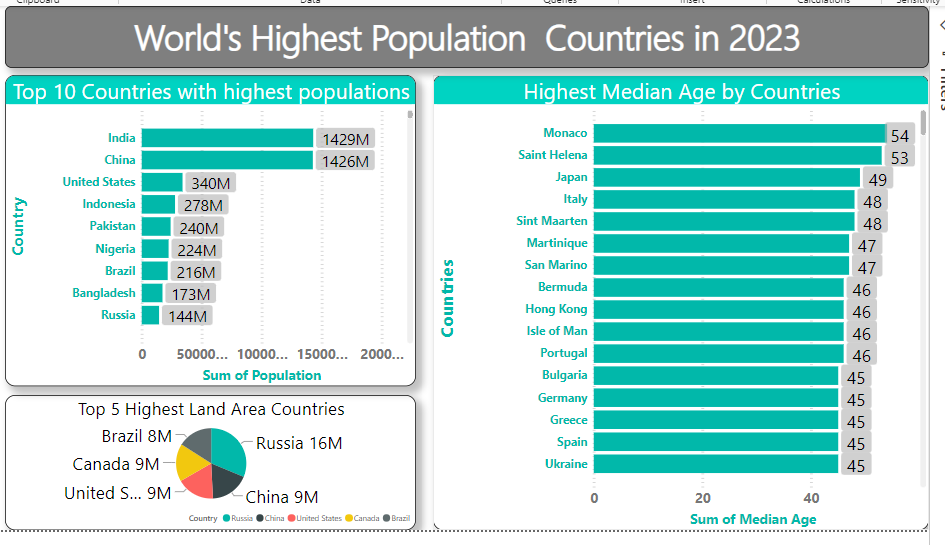

What the dashboard file says about the page in this screenshot:
{"tool":"powerbi","page":{"name":"Page 1","canvas":[1280,720],"ordinal":0},"visuals":[{"type":"barChart","title":"Top 10 Countries with highest populations","fields":{"Category":["world_population_2023.Country1"],"Y":["Sum(world_population_2023.Population)1"]},"box":[9.6,94.9,565.1,427.6],"z":0},{"type":"pieChart","title":"Top 5 Highest Land Area Countries","fields":{"Y":["Sum(world_population_2023.Land Area (Km2))"],"Category":["world_population_2023.Country"]},"box":[9.6,534.4,565.1,185.6],"z":1000},{"type":"clusteredBarChart","title":"Highest Median Age by Countries","fields":{"Category":["world_population_2023.Country1"],"Y":["Sum(world_population_2023.Median Age)1"]},"box":[598.1,94.4,681.9,625.6],"z":2000},{"type":"textbox","box":[9.6,0,1270.4,85.2],"z":3000}]}

Visuals, with their boxes in screenshot pixels (x1, y1, x2, y2):
"Top 10 Countries with highest populations" barChart: {"x1": 2, "y1": 72, "x2": 414, "y2": 383}
"Top 5 Highest Land Area Countries" pieChart: {"x1": 2, "y1": 392, "x2": 414, "y2": 527}
"Highest Median Age by Countries" clusteredBarChart: {"x1": 431, "y1": 71, "x2": 927, "y2": 527}
textbox: {"x1": 2, "y1": 2, "x2": 927, "y2": 64}
